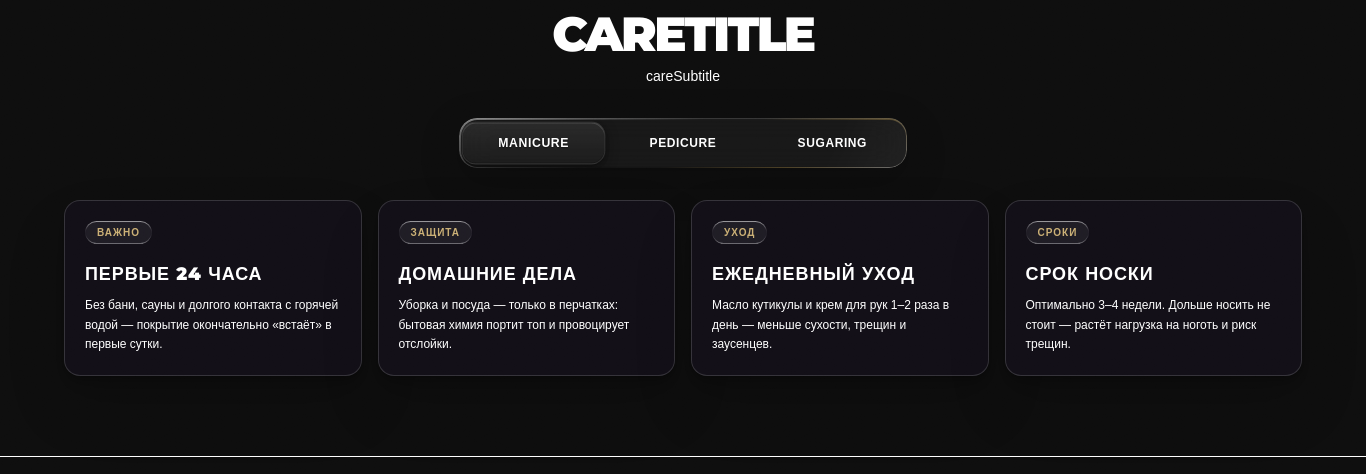
Test: CareGuide › switches tabs correctly
Click the button "pedicure" at (683, 143), box [612,122,754,164]
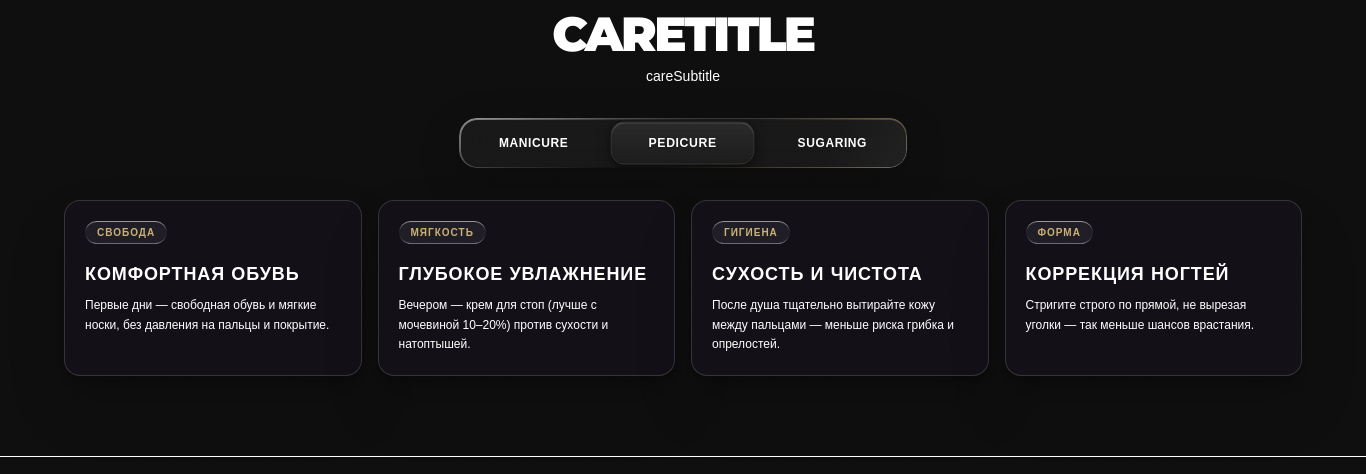
Check: the text "Свобода" is shown, box [85,221,167,244]
Check: the text "Мягкость" is shown, box [398,221,486,244]
Check: the text "Гигиена" is shown, box [712,221,790,244]
